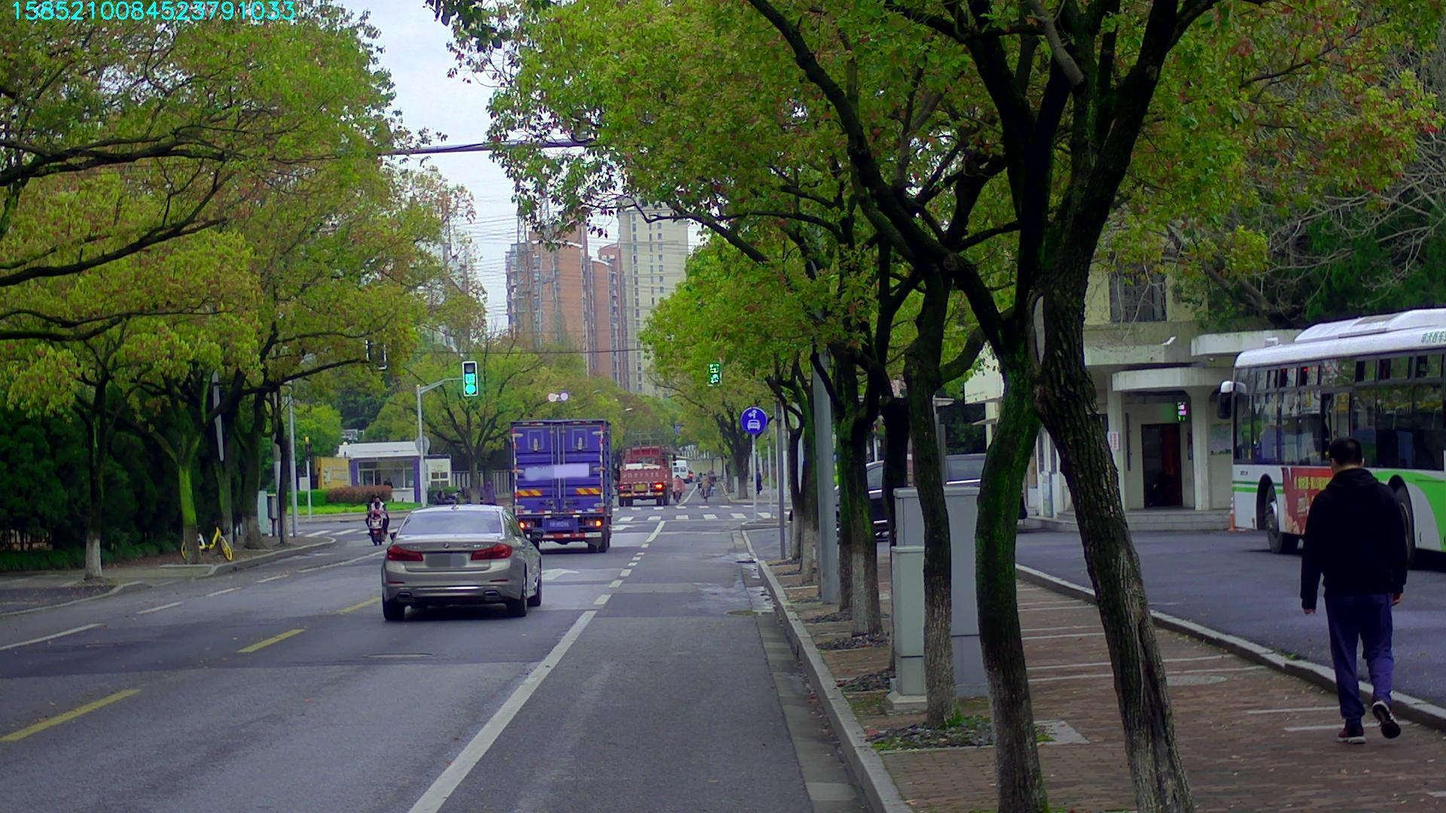green: (462, 361, 477, 394), (708, 360, 721, 385)
